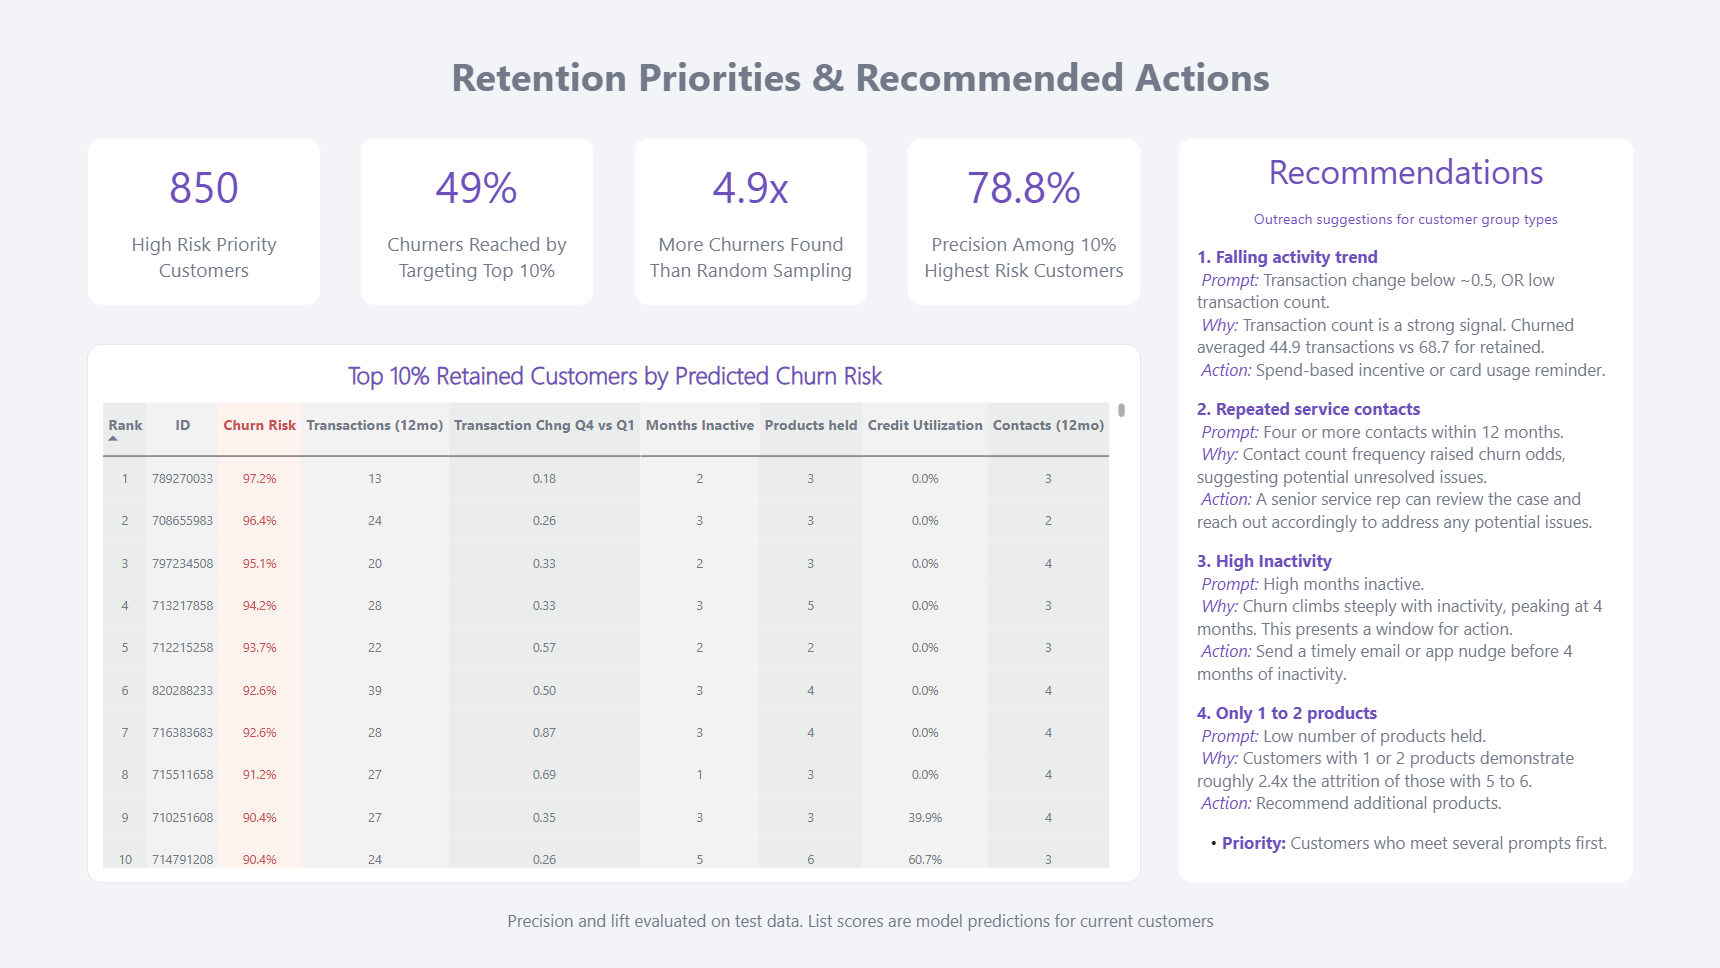

This screenshot's page, from the dashboard's own definition file:
{"tool":"powerbi","page":{"name":"Retention Priorities & Reccomended Actions","canvas":[1920,1080],"ordinal":2},"visuals":[{"type":"tableEx","title":"Top 10% Retained Customers by Predicted Churn Risk","fields":{"Values":["Top10%HighRiskCustomers.risk_rank","Top10%HighRiskCustomers.customer_id","Top10%HighRiskCustomers.churn_probability","Top10%HighRiskCustomers.total_trans_ct","Top10%HighRiskCustomers.total_ct_chng_q4_q1","Top10%HighRiskCustomers.months_inactive_12_mon","Top10%HighRiskCustomers.total_relationship_count","Top10%HighRiskCustomers.avg_utilization_ratio","Top10%HighRiskCustomers.contacts_count_12_mon"]},"box":[100,385.6,1171.1,598.9],"z":0},{"type":"textbox","box":[1312.2,156.7,506.7,827.8],"z":1000},{"type":"textbox","box":[326.7,58.9,1265.6,82.2],"z":2000},{"type":"textbox","box":[403.7,156.7,260,186],"z":3000},{"type":"textbox","box":[707.4,156.7,260,186],"z":4000},{"type":"textbox","box":[100,156.7,260,186],"z":5000},{"type":"textbox","box":[1011.1,156.7,260,186],"z":6000},{"type":"textbox","box":[316.7,1013.3,1285.6,38.9],"z":6001}]}

Visuals, with their boxes in screenshot pixels (x1, y1, x2, y2), scaled from the page's 1920x1080 canvas onto the 1720x968 screenshot:
"Top 10% Retained Customers by Predicted Churn Risk" tableEx: <bbox>90, 346, 1139, 882</bbox>
textbox: <bbox>1176, 140, 1629, 882</bbox>
textbox: <bbox>293, 53, 1426, 126</bbox>
textbox: <bbox>362, 140, 595, 307</bbox>
textbox: <bbox>634, 140, 867, 307</bbox>
textbox: <bbox>90, 140, 322, 307</bbox>
textbox: <bbox>906, 140, 1139, 307</bbox>
textbox: <bbox>284, 908, 1435, 943</bbox>
